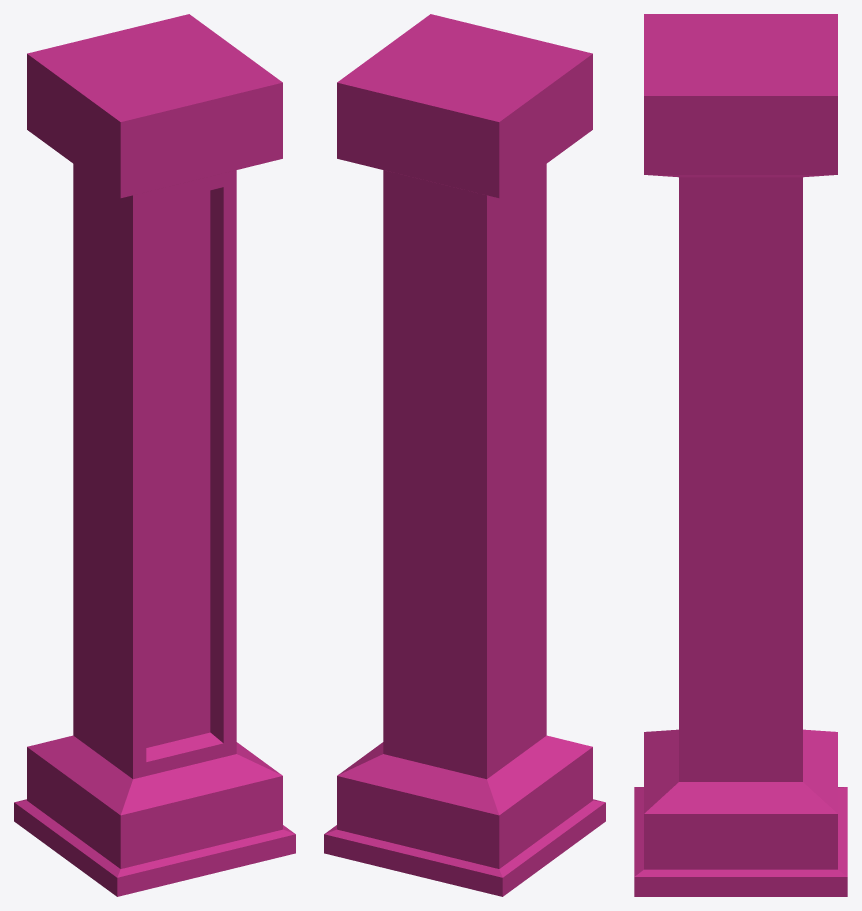
File: pillar_test_01.fbx
3 renders of one model, left to right at view 1: azimuth 30°, elevation 25°; view 2: azimuth 150°, elevation 25°; view 3: azimuth 270°, elevation 25°, orthographic. The views are drawn at different scales.
Parts seen in each view (by area): view 1: pillar_01; view 2: pillar_01; view 3: pillar_01.
Part boxes in pixels (<box>): pillar_01: <box>14,14,295,896</box>; pillar_01: <box>324,14,605,896</box>; pillar_01: <box>634,14,847,896</box>.
Size of the model in its own units: 95.11 by 392 by 95.11.
